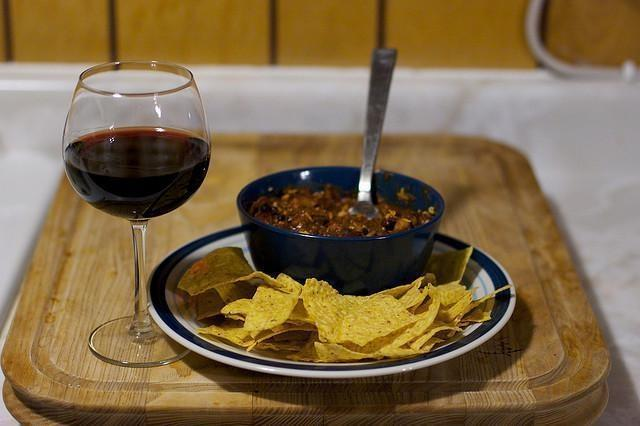glass-wine: (61, 62, 214, 368)
